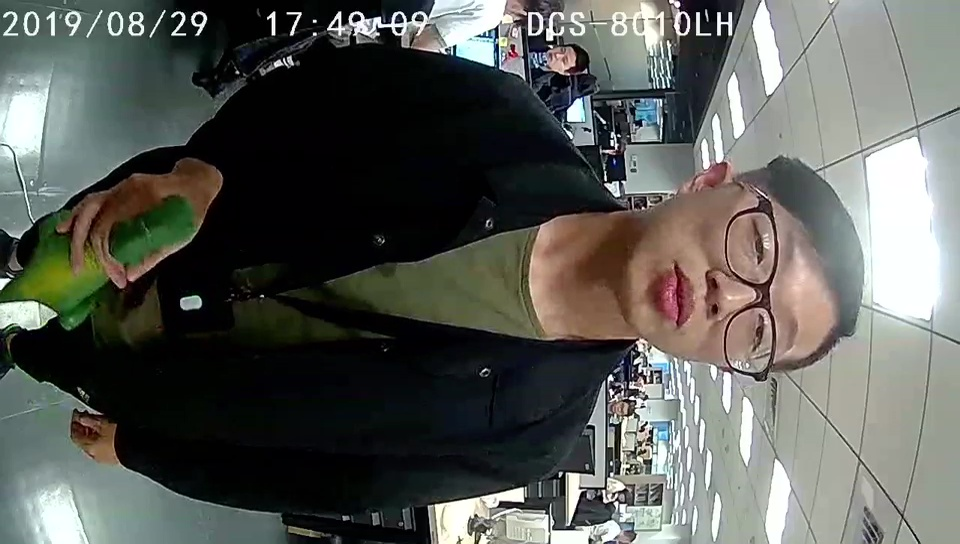rex: (30, 194, 195, 329)
